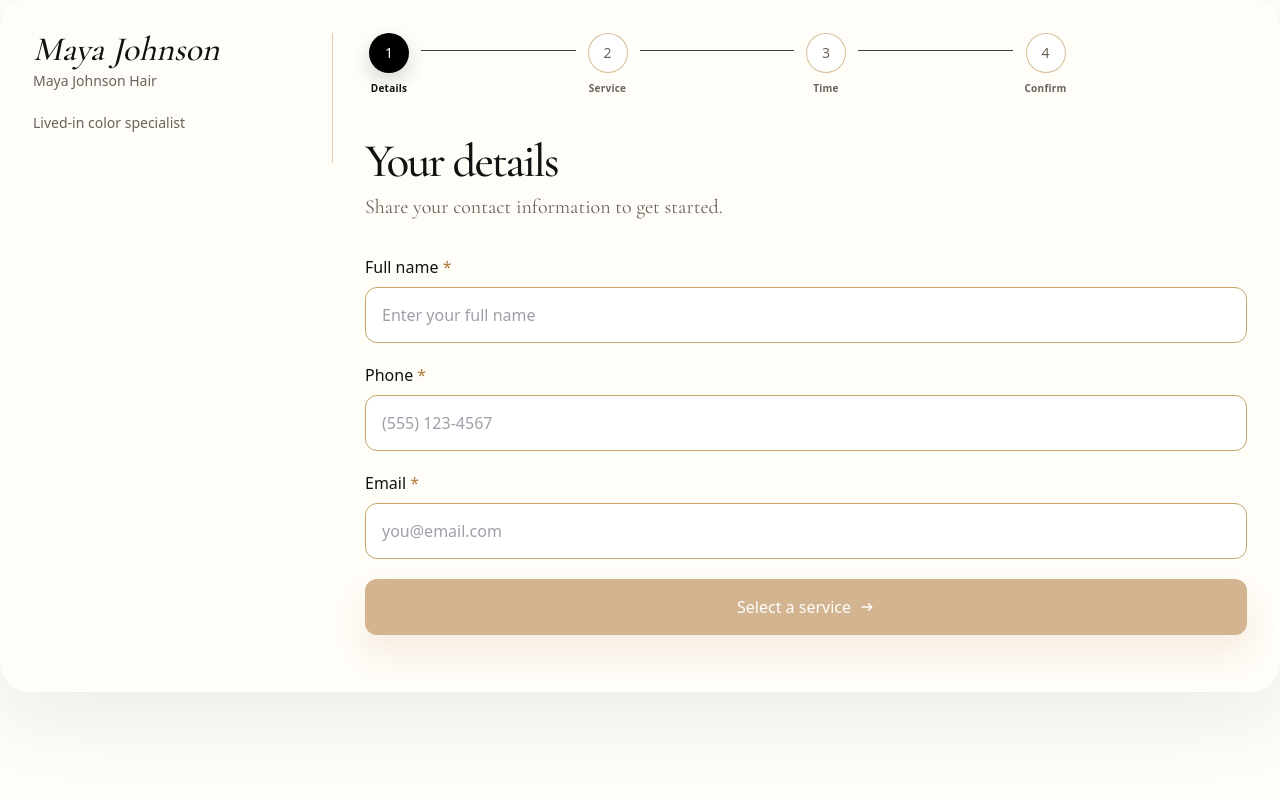
Scenario: BookingFlow › shows the backend intake error instead of a generic booking details error
This screenshot has width=1280, height=800.
Type "Jane Smith" into the field with placeholder "Enter your full name".
click(806, 315); type("Jane Smith")  # box x1=365 y1=287 x2=1247 y2=343
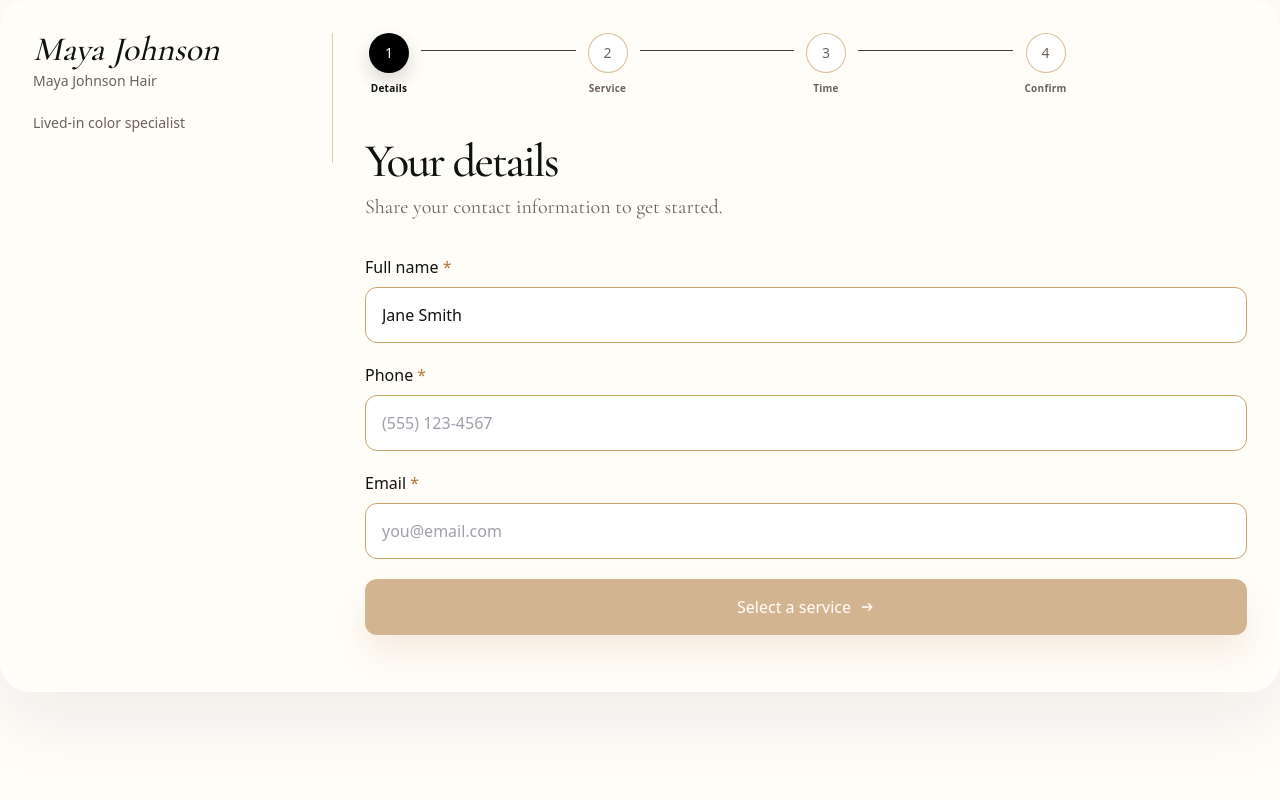
Type "(720) 555-0103" into the field with placeholder "(555) 123-4567".
click(806, 423); type("(720) 555-0103")  # box x1=365 y1=395 x2=1247 y2=451
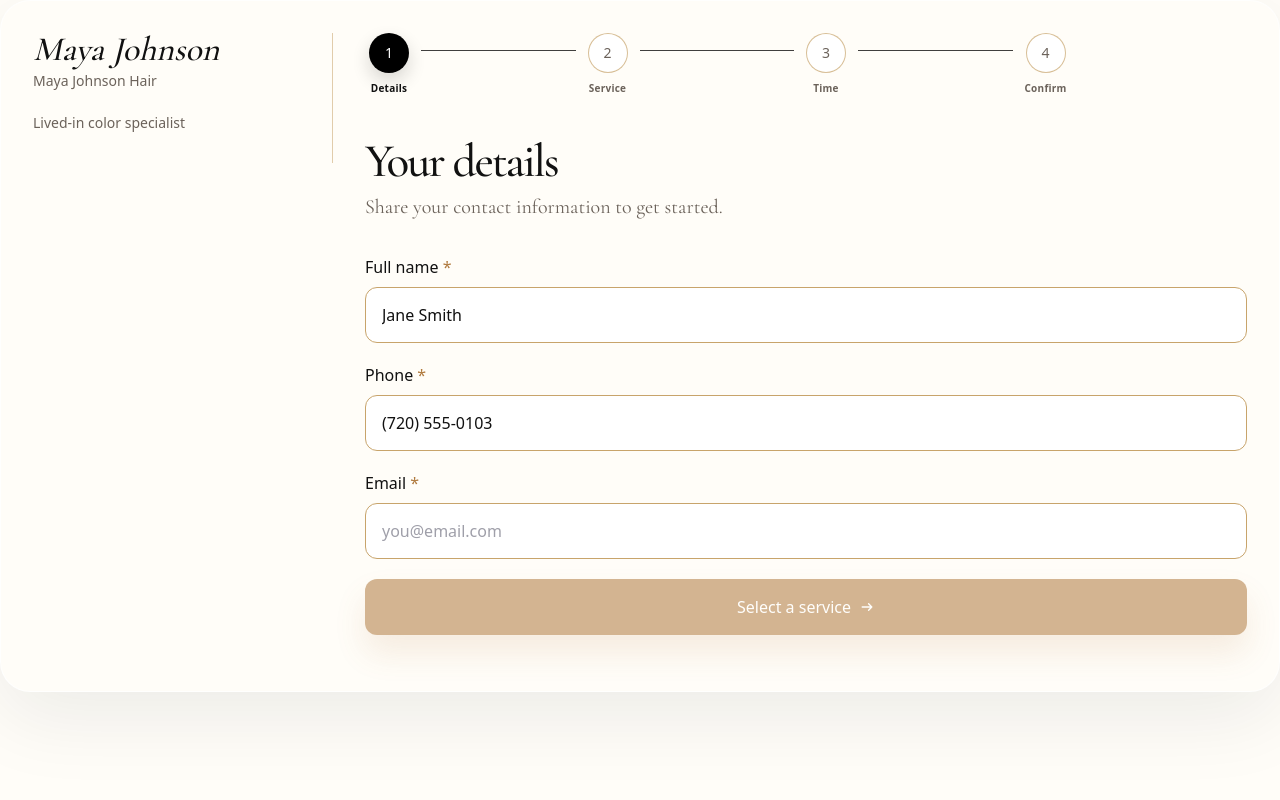
Type "jane@example.com" into the field with placeholder "you@email.com".
click(806, 531); type("jane@example.com")  # box x1=365 y1=503 x2=1247 y2=559
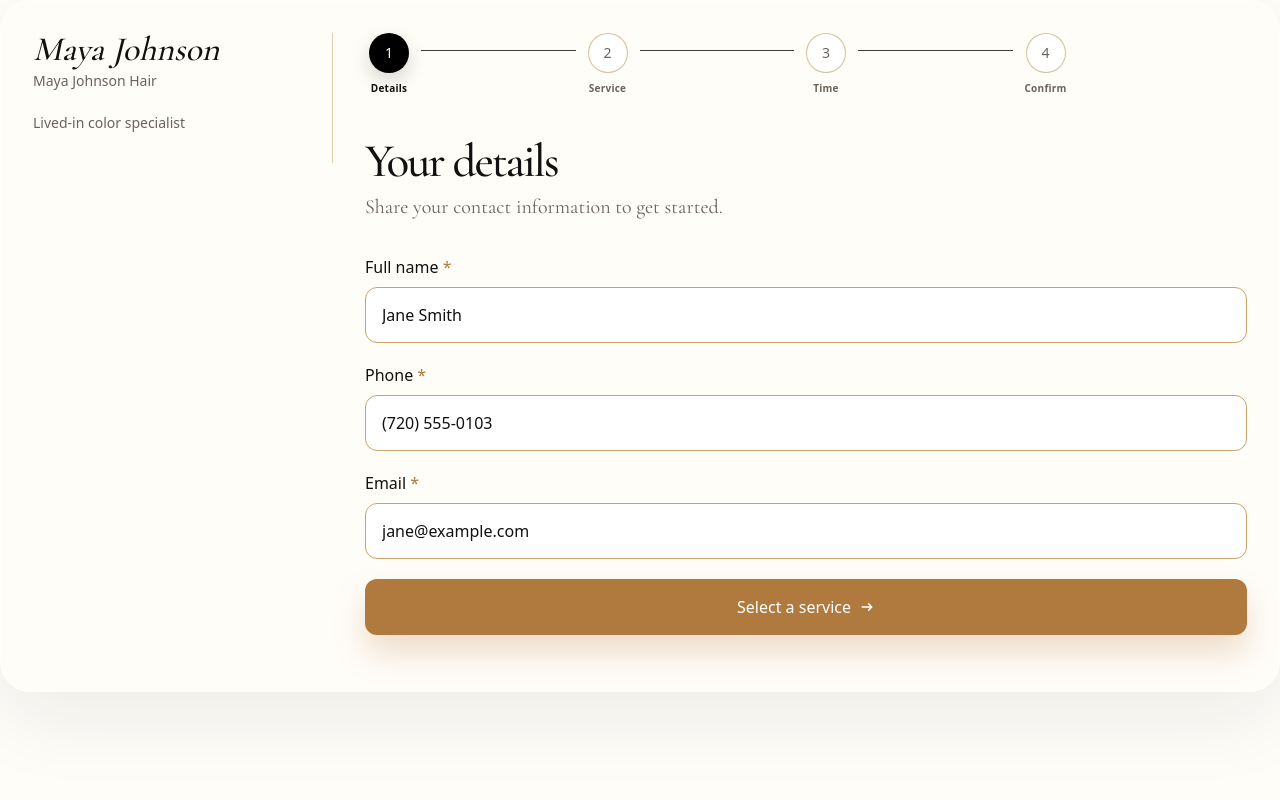
Click the button "Select a service".
click(806, 607)  # box x1=365 y1=579 x2=1247 y2=635
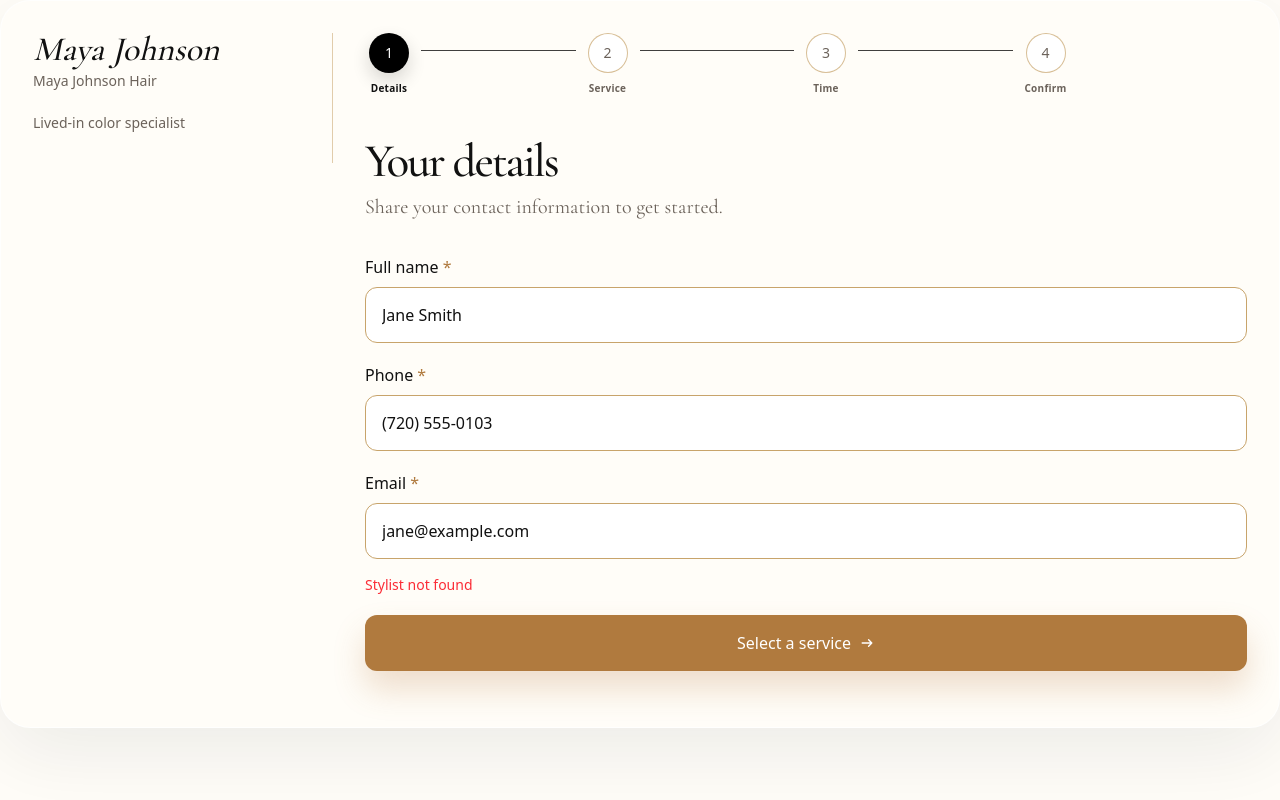
Now the text "Stylist not found" is shown, box x1=365 y1=575 x2=472 y2=594
